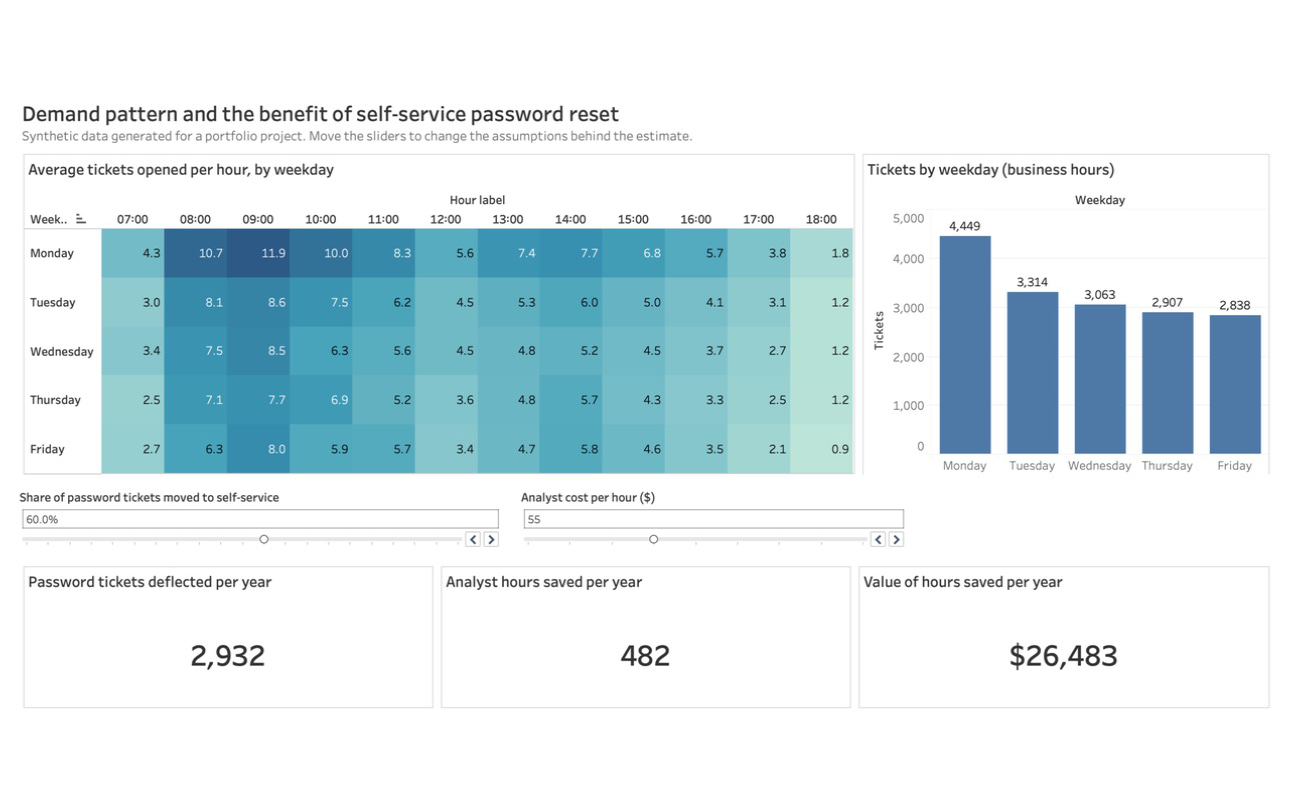

This screenshot's page, from the dashboard's own definition file:
{"tool":"tableau","page":{"name":"Demand and benefit","canvas":[1300,640],"ordinal":2},"visuals":[{"type":"title","box":[0,0,1300,56]},{"type":"worksheet","title":"Arrivals by weekday and hour","mark":"Square","rows":["weekday"],"cols":["hour_label"],"box":[0,56,870,330]},{"type":"worksheet","title":"Tickets by weekday","mark":"Bar","rows":["c_tickets"],"cols":["weekday"],"box":[870,56,430,330]},{"type":"parameter","param":"[Parameters].[Parameter 1]","box":[0,396,500,66]},{"type":"parameter","param":"[Parameters].[Parameter 2]","box":[520,396,400,66]},{"type":"worksheet","title":"Password tickets deflected","mark":"Text","box":[0,470,433,150]},{"type":"worksheet","title":"Hours saved","mark":"Text","box":[433,470,433,150]},{"type":"worksheet","title":"Value of hours saved","mark":"Text","box":[866,470,434,150]}]}

Visuals, with their boxes on the page's 1300x640 design canvas (x1, y1, x2, y2). These are canvas units, not pixel positions in the 1292x811 screenshot, which may show the page scaled, cropped or inside an application window:
title: bbox(0, 0, 1300, 56)
"Arrivals by weekday and hour" worksheet (Square marks): bbox(0, 56, 870, 386)
"Tickets by weekday" worksheet (Bar marks): bbox(870, 56, 1300, 386)
parameter: bbox(0, 396, 500, 462)
parameter: bbox(520, 396, 920, 462)
"Password tickets deflected" worksheet (Text marks): bbox(0, 470, 433, 620)
"Hours saved" worksheet (Text marks): bbox(433, 470, 866, 620)
"Value of hours saved" worksheet (Text marks): bbox(866, 470, 1300, 620)
